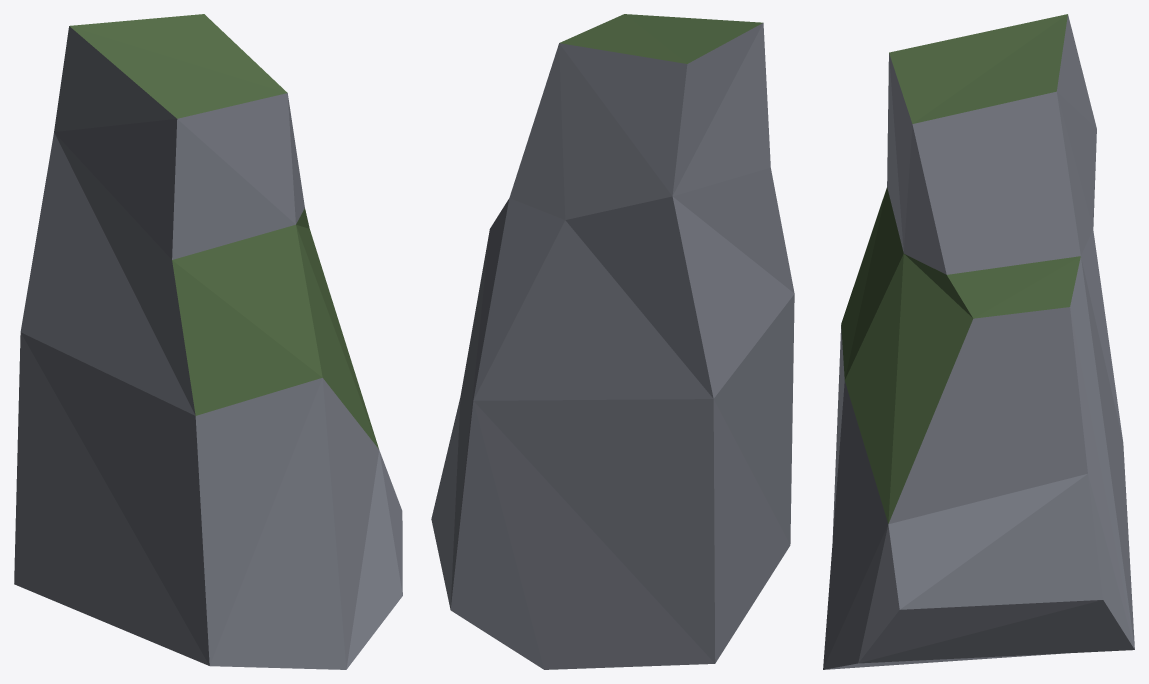
Rendered from Rock_Moss_1.lod2.glb.
3 renders of one model, left to right at view 1: azimuth 30°, elevation 25°; view 2: azimuth 150°, elevation 25°; view 3: azimuth 270°, elevation 25°, orthographic. The views are drawn at different scales.
Parts seen in each view (by area): view 1: Rock_Moss_1; view 2: Rock_Moss_1; view 3: Rock_Moss_1.
Boxes of the visible parts, left/top/right/bottom form: Rock_Moss_1: left=14, top=14, right=402, bottom=669; Rock_Moss_1: left=431, top=14, right=794, bottom=669; Rock_Moss_1: left=823, top=14, right=1134, bottom=669.
Bounding box in the file's own units: 0.4859 × 0.9496 × 0.4608.
